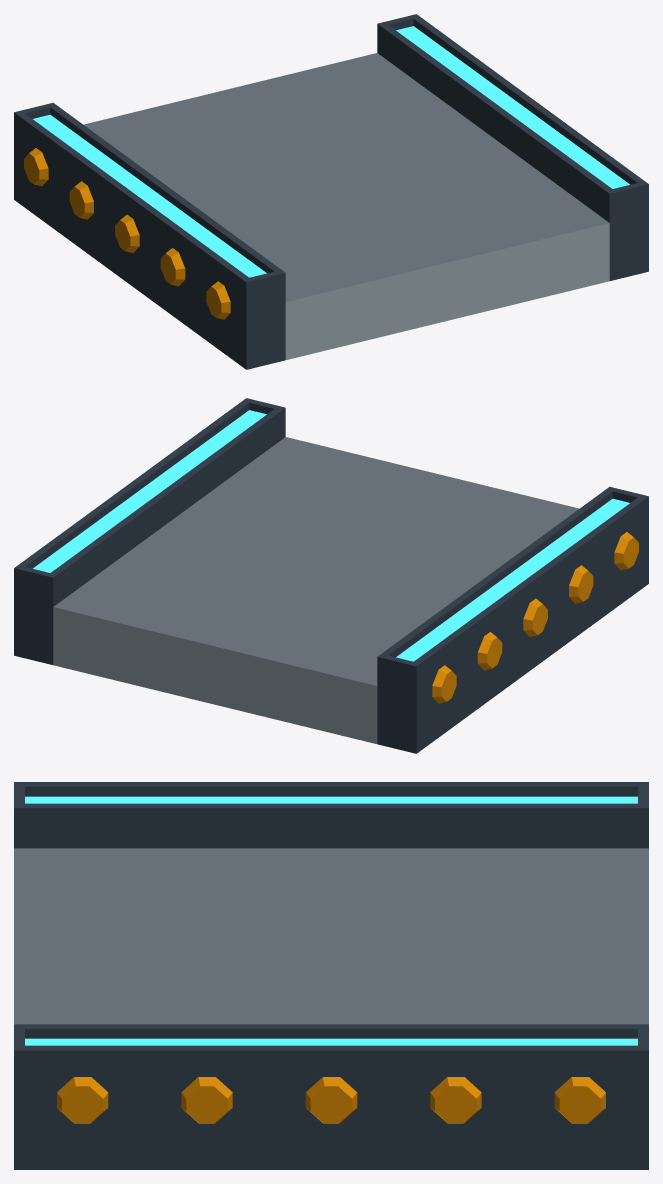
The model's file is SM_Belt_001.fbx.
The picture shows the model from 3 angles, top to bottom: view 1: azimuth 30°, elevation 25°; view 2: azimuth 150°, elevation 25°; view 3: azimuth 270°, elevation 25°; orthographic projection. The views are drawn at different scales.
Parts seen in each view (by area): view 1: Belt.001; view 2: Belt.001; view 3: Belt.001.
Boxes of the visible parts, box(x1,y1,x2,y2) form: Belt.001: box(14, 14, 648, 369); Belt.001: box(14, 398, 648, 753); Belt.001: box(14, 782, 648, 1169).
Size of the model in its own units: 104 by 20.77 by 100.
